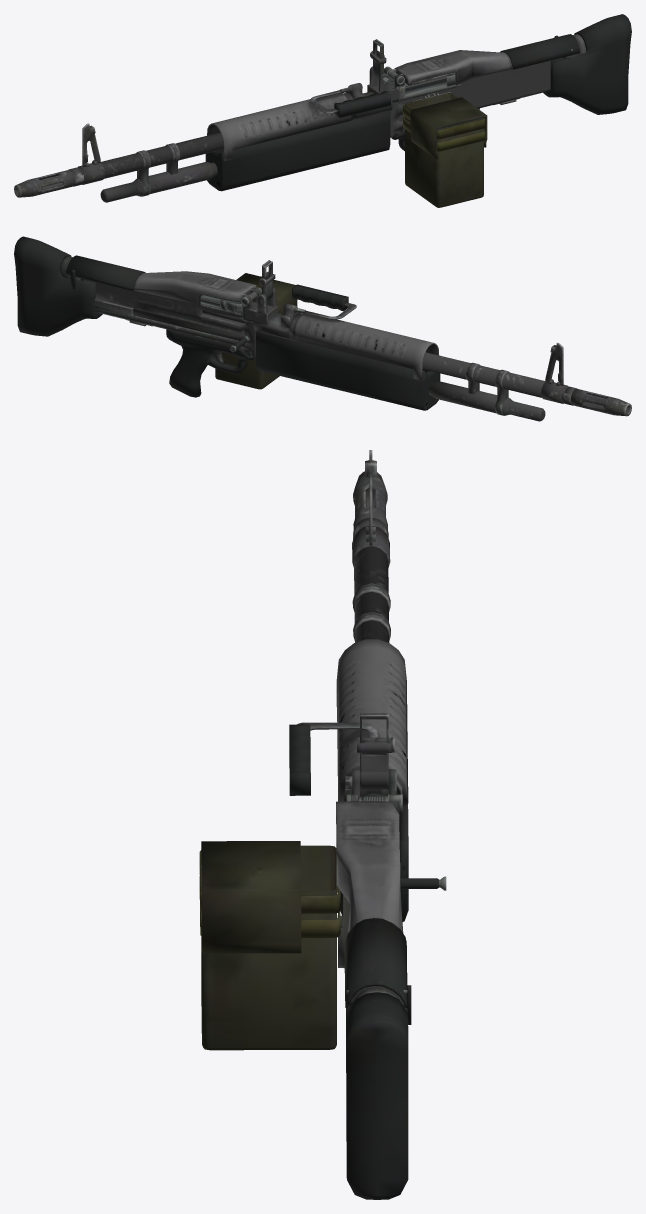
The model's file is gpmg.glb.
The picture shows the model from 3 angles, top to bottom: view 1: azimuth 30°, elevation 25°; view 2: azimuth 150°, elevation 25°; view 3: azimuth 270°, elevation 25°; orthographic projection. The views are drawn at different scales.
Visible parts, largest first — view 1: Object_2; view 2: Object_2; view 3: Object_2.
Part boxes in pixels (x1,y1,x2,y2): Object_2: [14, 14, 631, 207]; Object_2: [14, 236, 631, 421]; Object_2: [199, 450, 446, 1199].
Bounding box in the file's own units: 146 × 34.29 × 25.63.
Materials: 1 (1 with a texture image).
